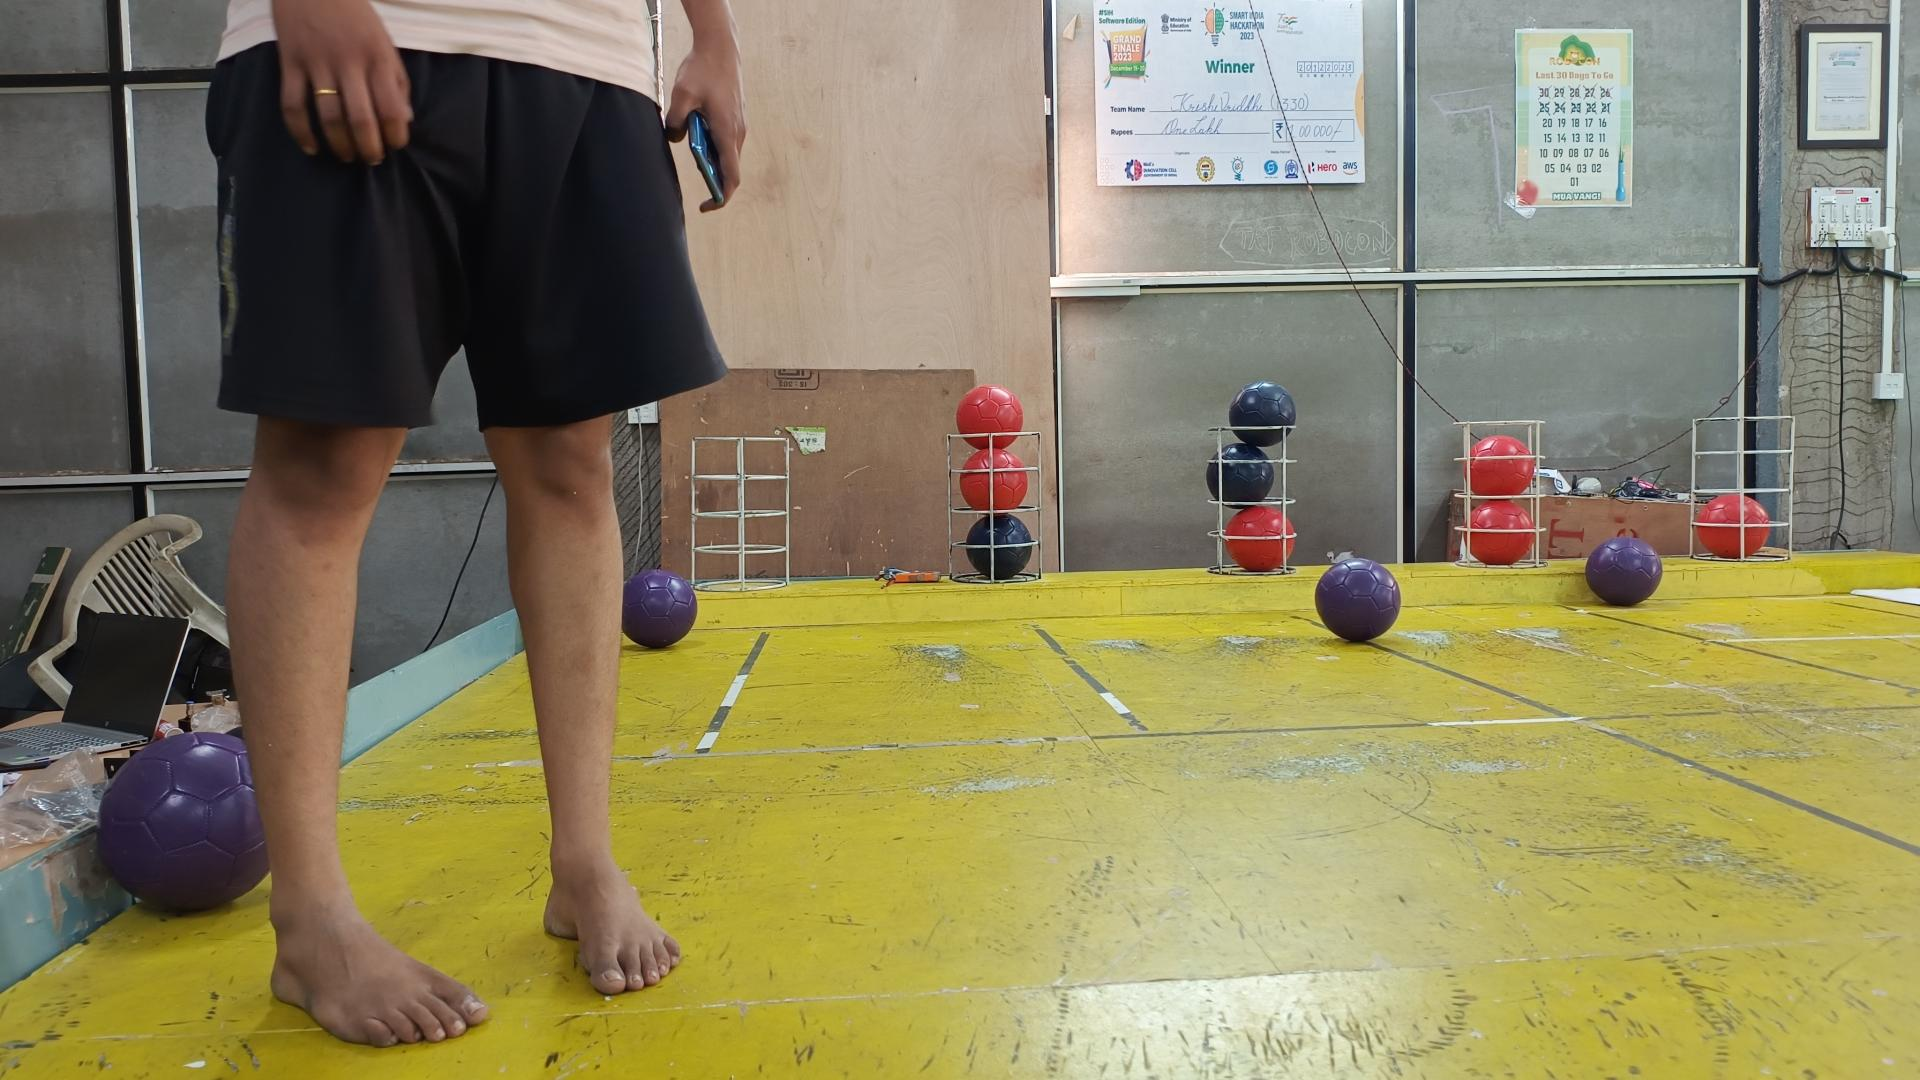dhoka: (967, 514, 1035, 578), (1228, 384, 1296, 447), (1207, 443, 1274, 504)
laale: (1225, 506, 1296, 575), (1695, 495, 1768, 559), (1466, 498, 1534, 566), (955, 388, 1023, 452), (959, 451, 1026, 512), (1466, 435, 1534, 495)
